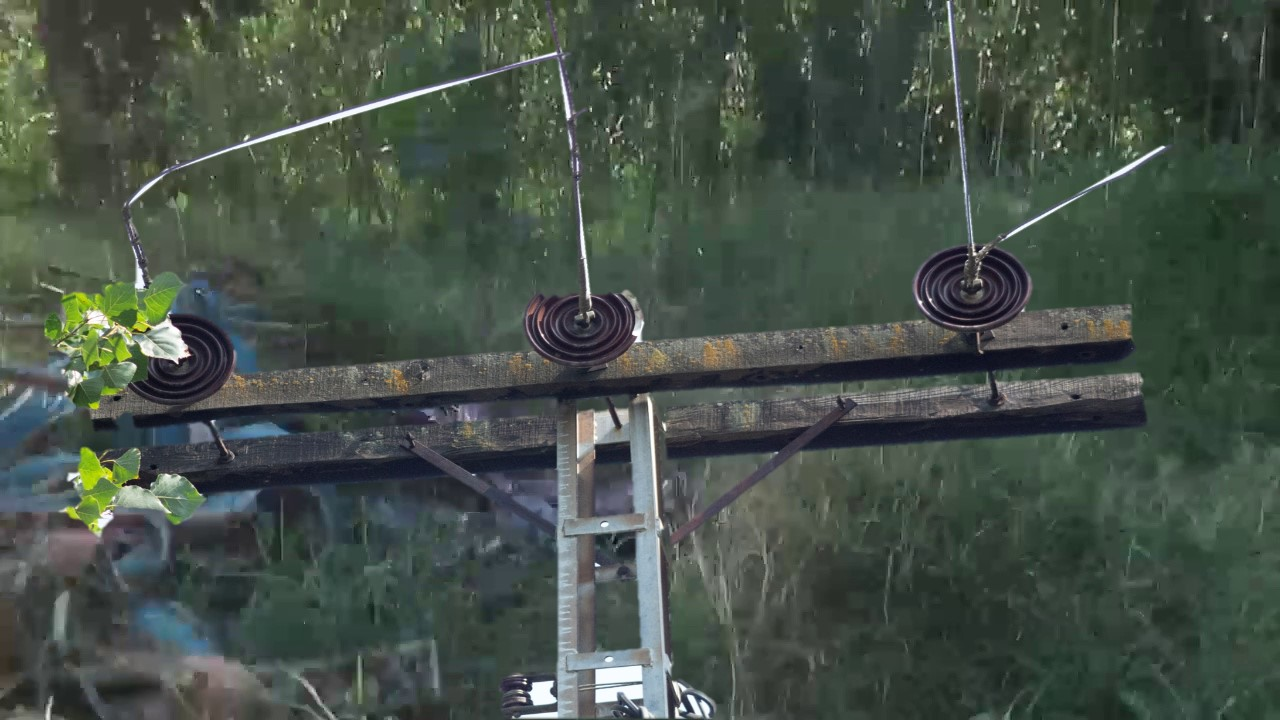defect_disc: (519, 284, 651, 371)
insulator_disc: (908, 244, 1038, 335), (129, 307, 240, 412)
